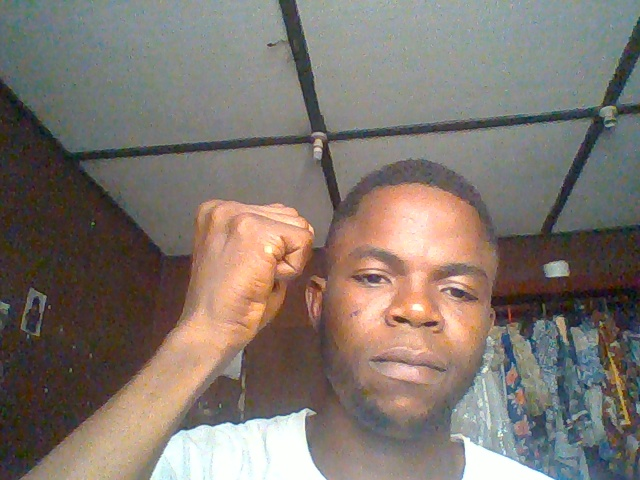Unity: (178, 188, 316, 345)
